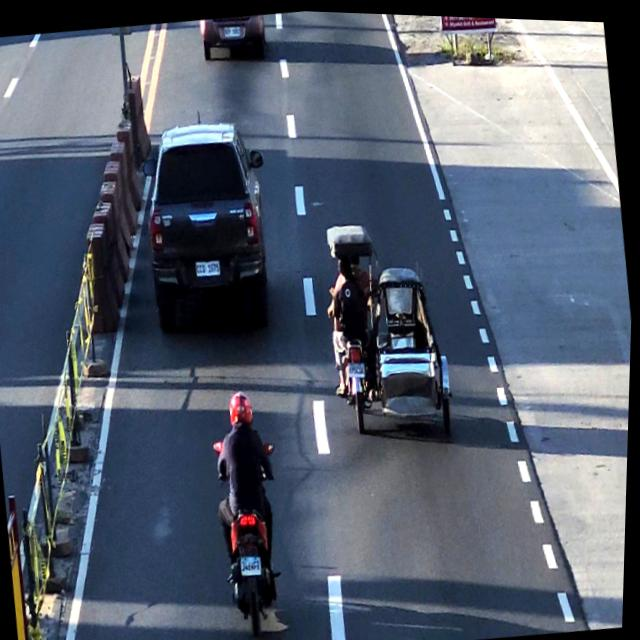Car: (140, 114, 282, 328), (198, 10, 268, 58)
License-Plate: (241, 547, 269, 580), (194, 253, 225, 280), (349, 358, 370, 376), (221, 22, 242, 38)
Motorcycle: (204, 386, 293, 640)
Tricycle: (316, 206, 464, 439)
